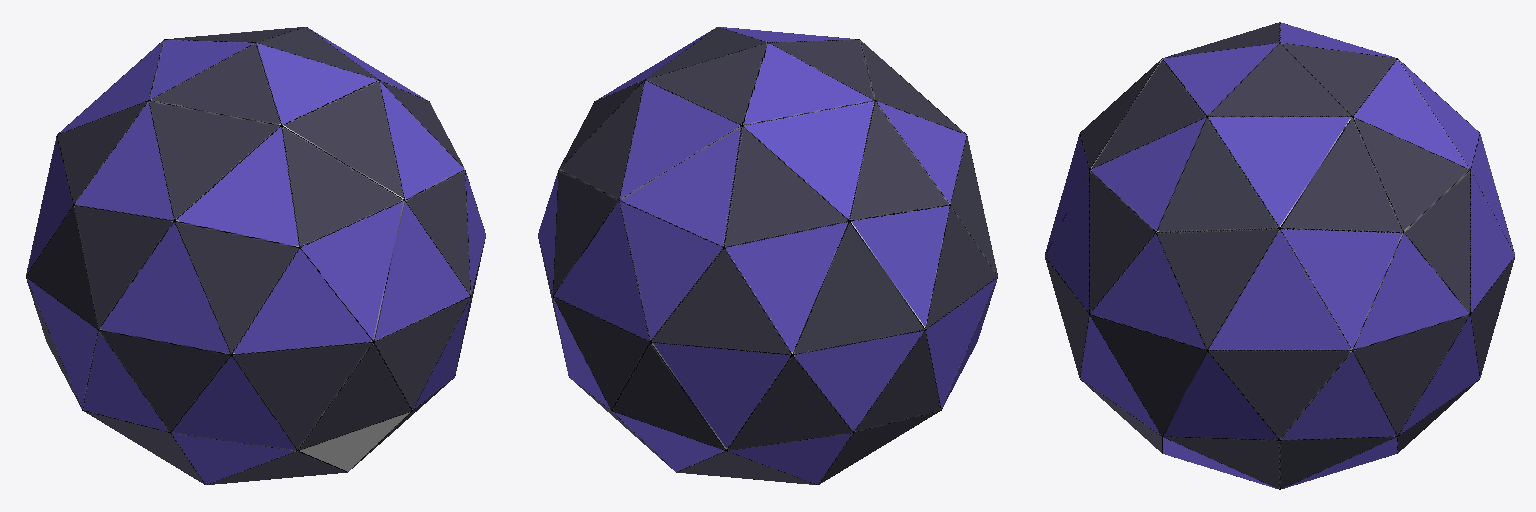
3 views of the same model, side by side, from view 1: azimuth 30°, elevation 25°; view 2: azimuth 150°, elevation 25°; view 3: azimuth 270°, elevation 25° (orthographic).
Visible parts, largest first — view 1: ICO球; view 2: ICO球; view 3: ICO球.
Boxes of the visible parts, x1,y1,x2,y2 form: ICO球: [26, 27, 485, 484]; ICO球: [538, 27, 997, 484]; ICO球: [1045, 22, 1514, 489].
Size of the model in its own units: 1.9 by 2 by 2.
Materials: 1 (1 with a texture image).